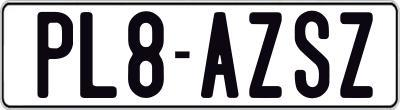8: (128, 10, 166, 99)
A: (201, 11, 239, 99)
L: (79, 11, 118, 99)
P: (35, 12, 71, 103)
S: (295, 11, 331, 99)
Z: (339, 9, 375, 101), (247, 12, 282, 100)
